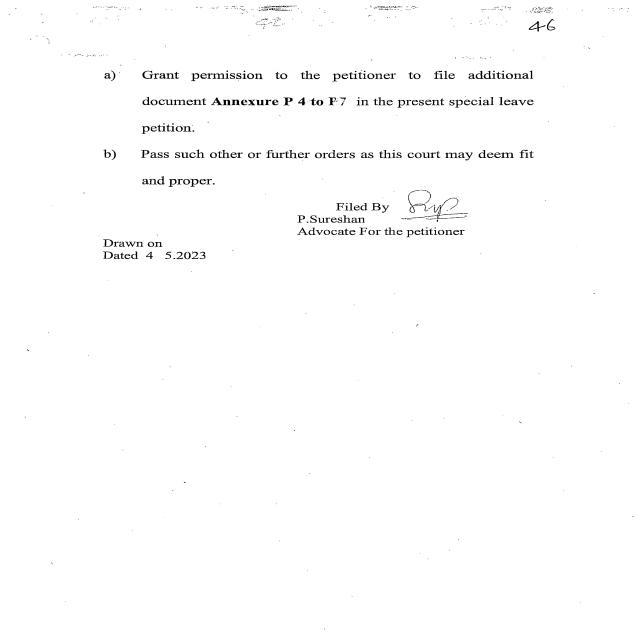page-number: (419, 0, 637, 69)
